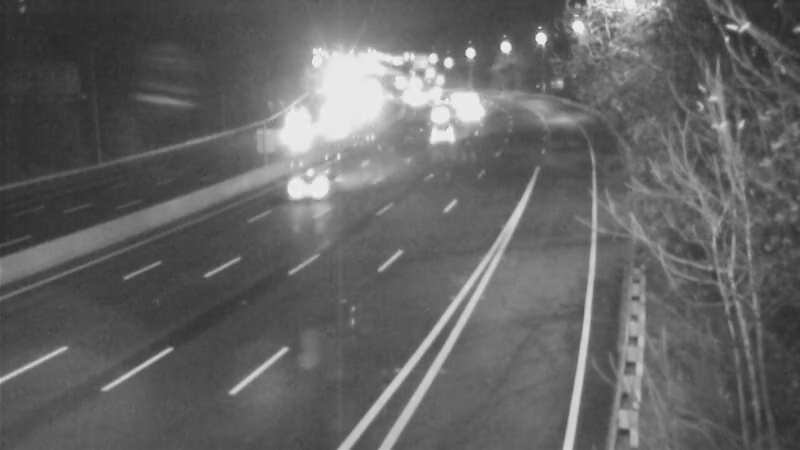vehicle: (266, 149, 346, 229), (436, 75, 486, 125), (439, 81, 489, 131), (444, 85, 494, 135), (404, 92, 454, 142), (411, 110, 461, 160), (272, 110, 322, 160), (306, 96, 356, 146)
